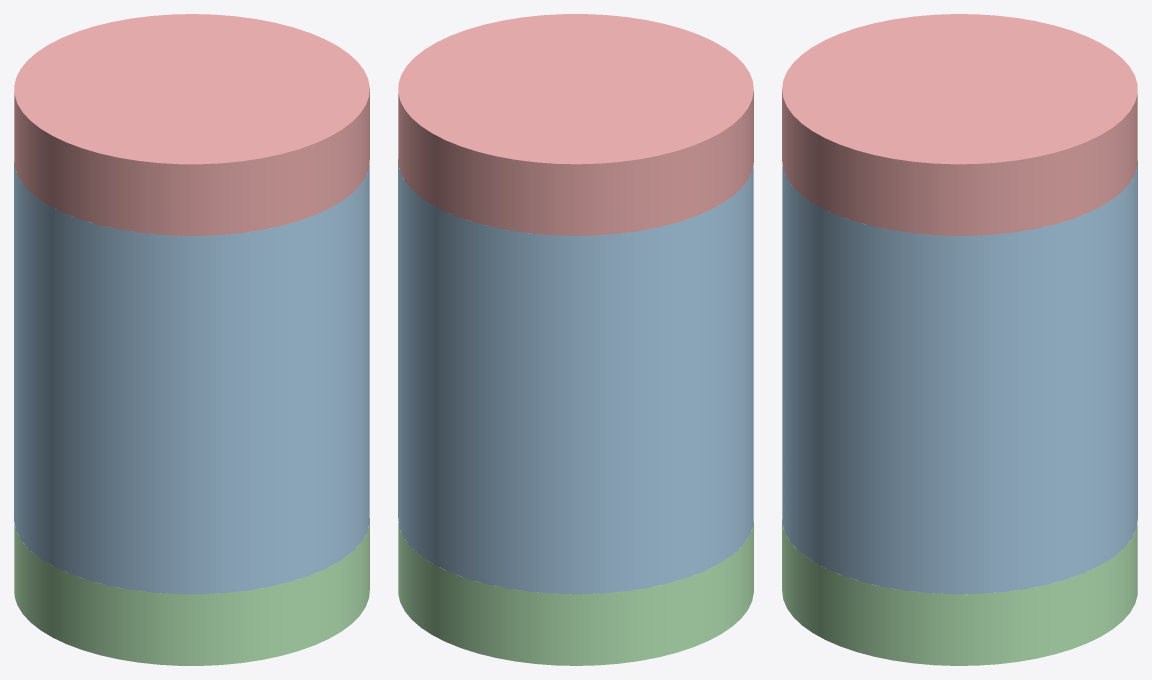
The model's file is simple_product.gltf.
3 views of the same model, side by side, from view 1: azimuth 30°, elevation 25°; view 2: azimuth 150°, elevation 25°; view 3: azimuth 270°, elevation 25° (orthographic).
Visible parts, largest first — view 1: Part_B-1, Part_C-1, Part_A-1; view 2: Part_B-1, Part_C-1, Part_A-1; view 3: Part_B-1, Part_C-1, Part_A-1.
Part boxes in pixels (x1,y1,x2,y2): Part_B-1: (14,162,369,594); Part_C-1: (14,14,369,235); Part_A-1: (14,517,369,665); Part_B-1: (398,159,753,594); Part_C-1: (398,14,753,235); Part_A-1: (398,520,753,665); Part_B-1: (782,160,1137,594); Part_C-1: (782,14,1137,235); Part_A-1: (782,519,1137,665).
Size of the model in its own units: 0.09 by 0.14 by 0.09.
